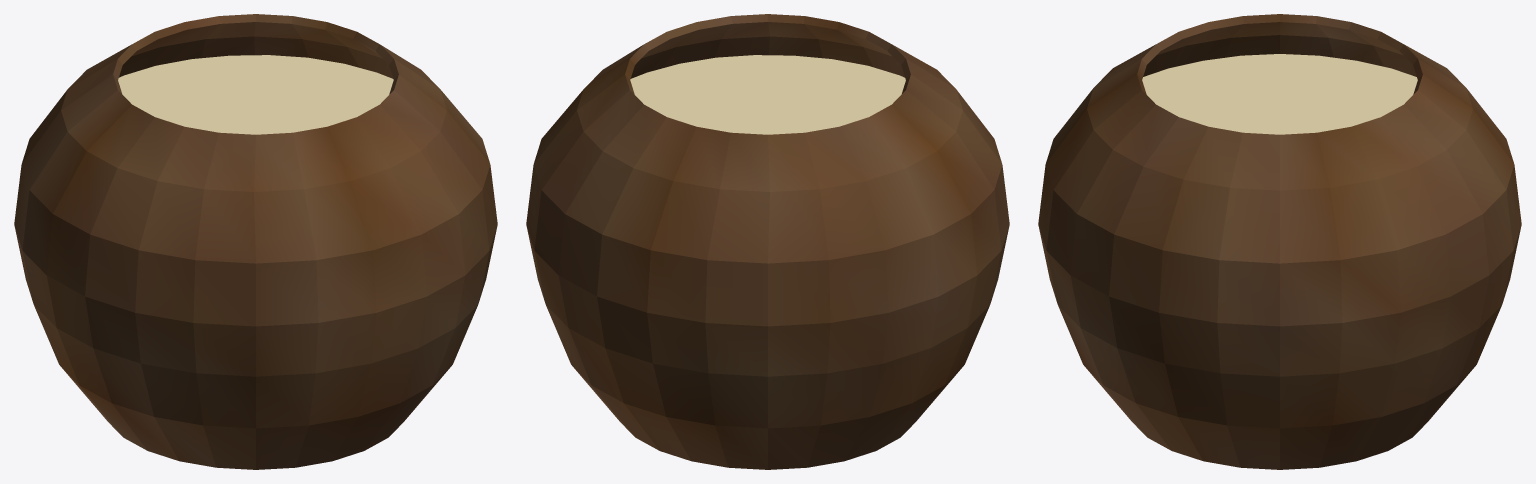
The model's file is filled_grain.glb.
3 renders of one model, left to right at view 1: azimuth 30°, elevation 25°; view 2: azimuth 150°, elevation 25°; view 3: azimuth 270°, elevation 25°, orthographic.
Parts seen in each view (by area): view 1: SM_Straw_Jar01a_M_Straw_Jar01a_0, variant_grain_surface; view 2: SM_Straw_Jar01a_M_Straw_Jar01a_0, variant_grain_surface; view 3: SM_Straw_Jar01a_M_Straw_Jar01a_0, variant_grain_surface.
Boxes of the visible parts, <box> form: SM_Straw_Jar01a_M_Straw_Jar01a_0: <box>14,14,497,469</box>; variant_grain_surface: <box>118,55,393,134</box>; SM_Straw_Jar01a_M_Straw_Jar01a_0: <box>526,14,1009,469</box>; variant_grain_surface: <box>630,55,905,134</box>; SM_Straw_Jar01a_M_Straw_Jar01a_0: <box>1038,14,1521,469</box>; variant_grain_surface: <box>1142,54,1417,134</box>.
Size of the model in its own units: 0.591 by 0.4463 by 0.591.
